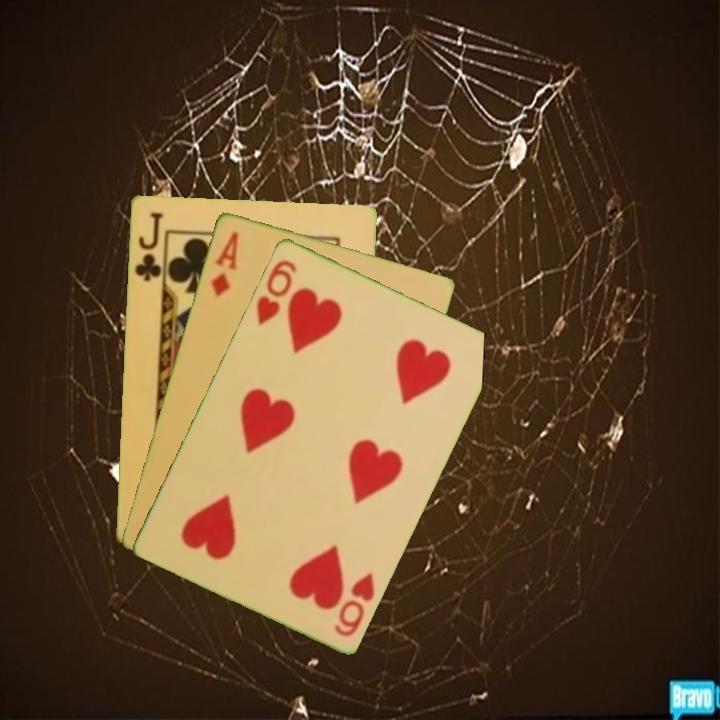6h: (252, 255, 300, 328), (330, 568, 378, 639)
Ad: (207, 227, 241, 299)
Jc: (131, 208, 165, 283)
